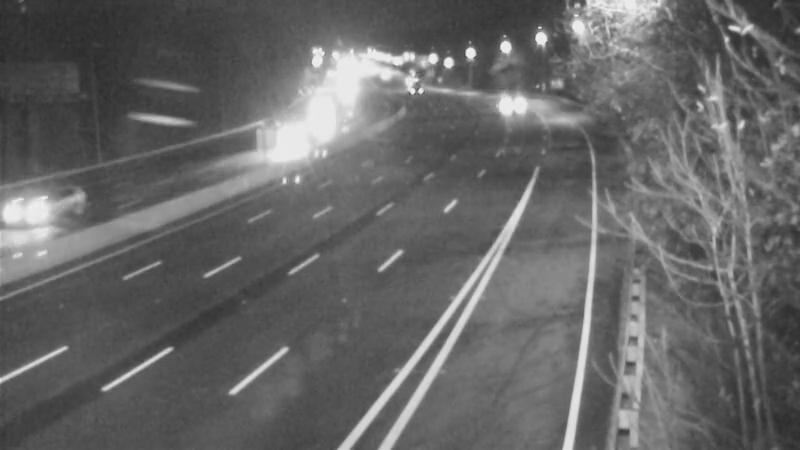vehicle: (7, 165, 87, 245), (385, 55, 435, 105), (485, 79, 535, 129), (252, 117, 302, 167), (296, 92, 346, 142)
